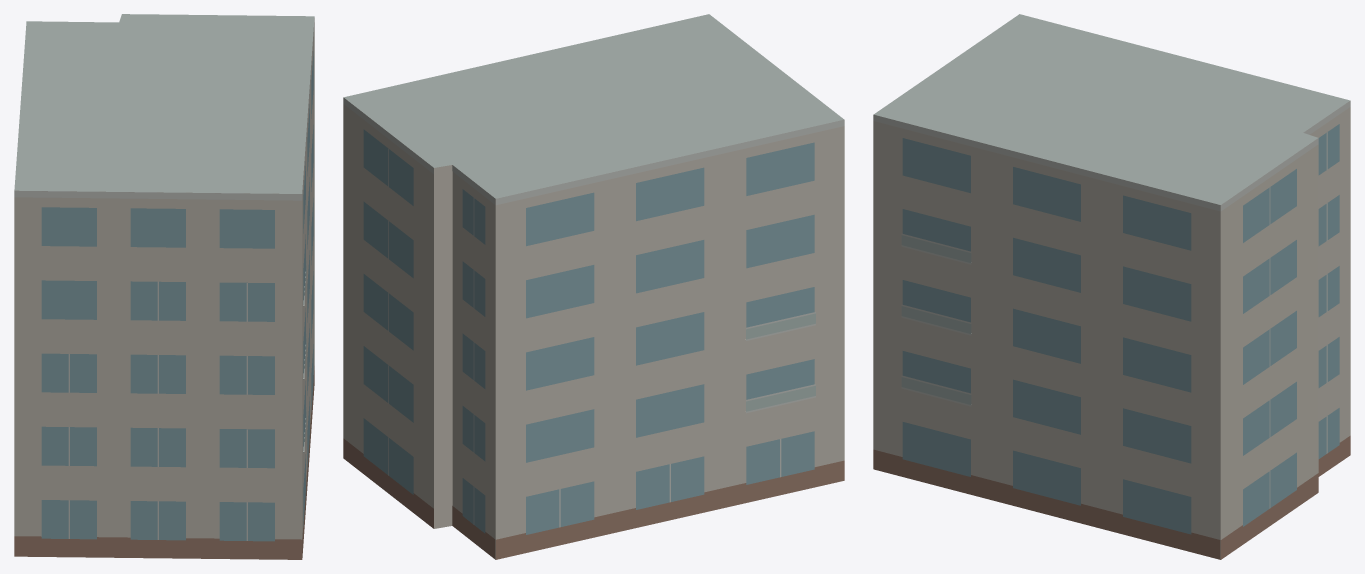
Rendered from survey-upis-32889172.glb.
3 renders of one model, left to right at view 1: azimuth 30°, elevation 25°; view 2: azimuth 150°, elevation 25°; view 3: azimuth 270°, elevation 25°, orthographic. The views are drawn at different scales.
Visible parts, largest first — view 1: survey-upis-32889172.tmp; view 2: survey-upis-32889172.tmp; view 3: survey-upis-32889172.tmp.
Boxes of the visible parts, x1,y1,x2,y2 form: survey-upis-32889172.tmp: (14, 14, 314, 559); survey-upis-32889172.tmp: (343, 14, 844, 559); survey-upis-32889172.tmp: (873, 14, 1350, 559).
Size of the model in its own units: 15.78 by 13.65 by 16.65.
